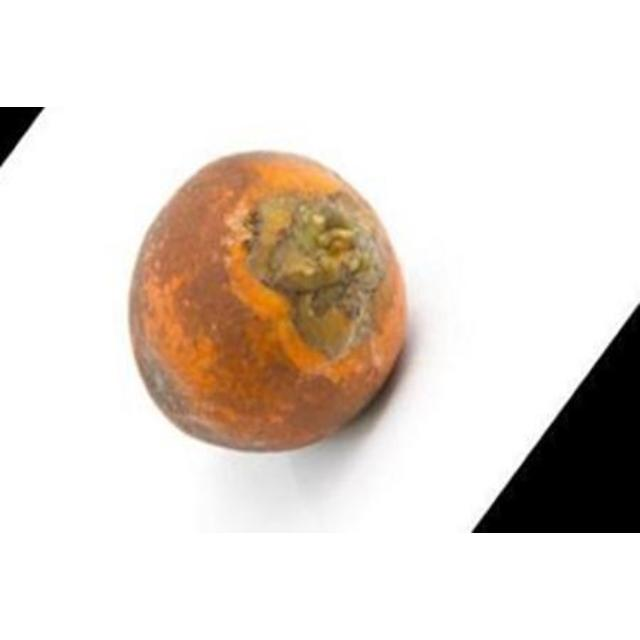good: (127, 154, 408, 454)
